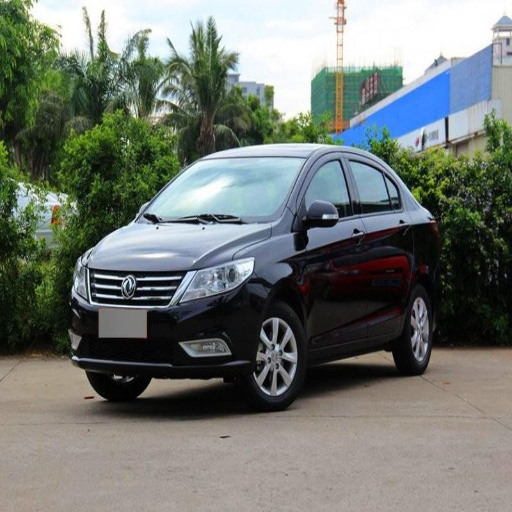front_bumper: (69, 265, 261, 372)
front_glass: (140, 157, 305, 223)
front_left_door: (298, 153, 369, 346)
